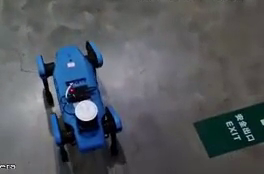robot dog: (31, 37, 130, 174)
